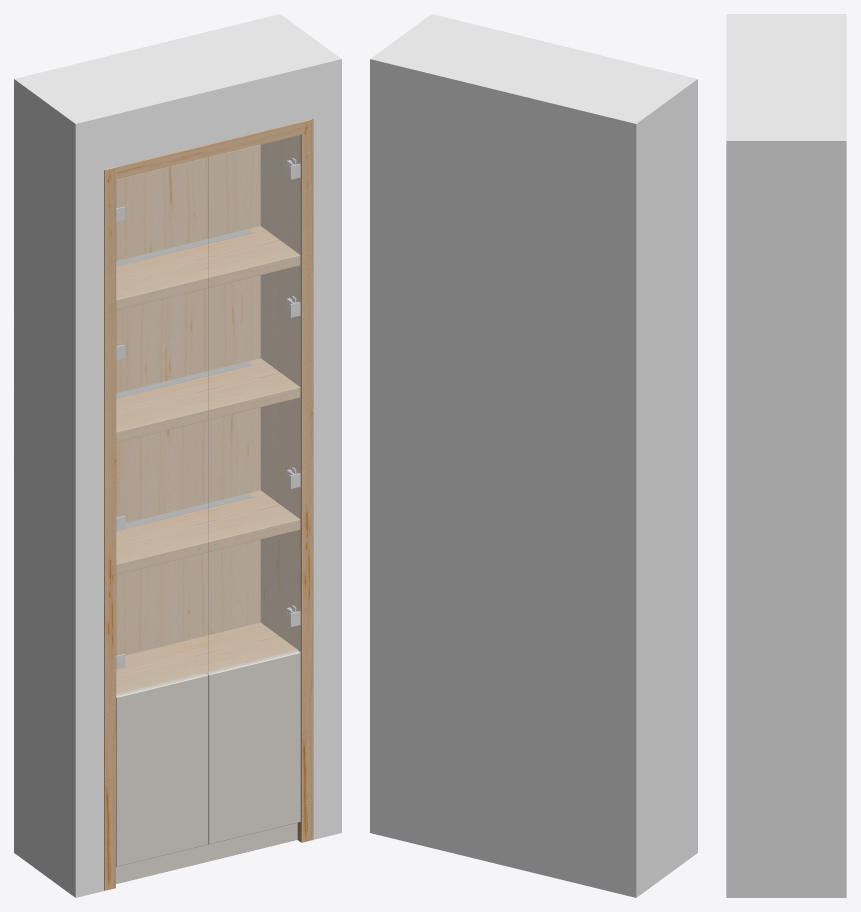
3 renders of one model, left to right at view 1: azimuth 30°, elevation 25°; view 2: azimuth 150°, elevation 25°; view 3: azimuth 270°, elevation 25°, orthographic. The views are drawn at different scales.
Visible parts, largest first — view 1: object 75, object 23, object 24, object 22, object 19, object 4, object 21, object 51, object 32, object 35, object 40, object 58 (+6 smaller); view 2: object 75; view 3: object 75.
Boxes of the visible parts, x1,y1,x2,y2 form: object 75: (14,14,341,897); object 23: (208,135,300,673); object 24: (116,157,208,696); object 22: (116,144,260,655); object 19: (206,650,300,844); object 4: (116,673,208,866); object 21: (260,135,298,840); object 51: (298,119,312,842); object 32: (104,167,115,890); object 35: (116,358,300,442); object 40: (116,226,300,310); object 58: (116,490,300,574); object 75: (370,14,697,897); object 75: (726,14,846,897).
Bounding box in the file's own units: 936 × 2600 × 375.
Materials: 75 (15 with a texture image).
